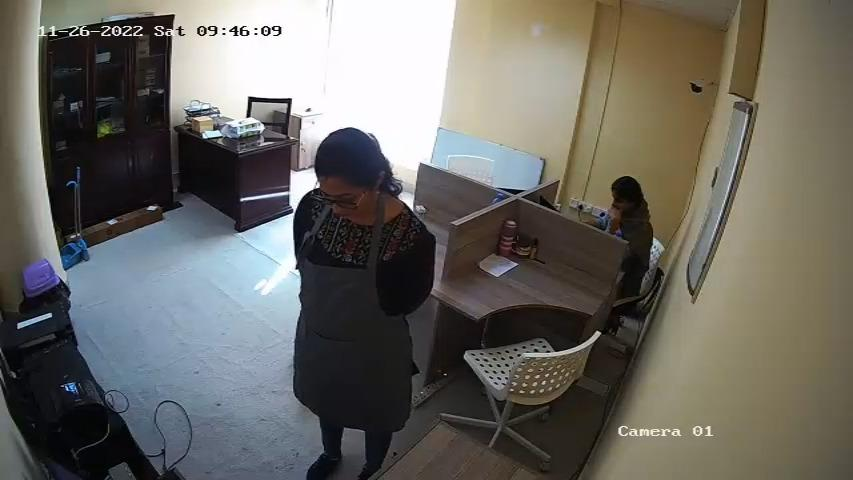apron: (296, 215, 413, 402)
